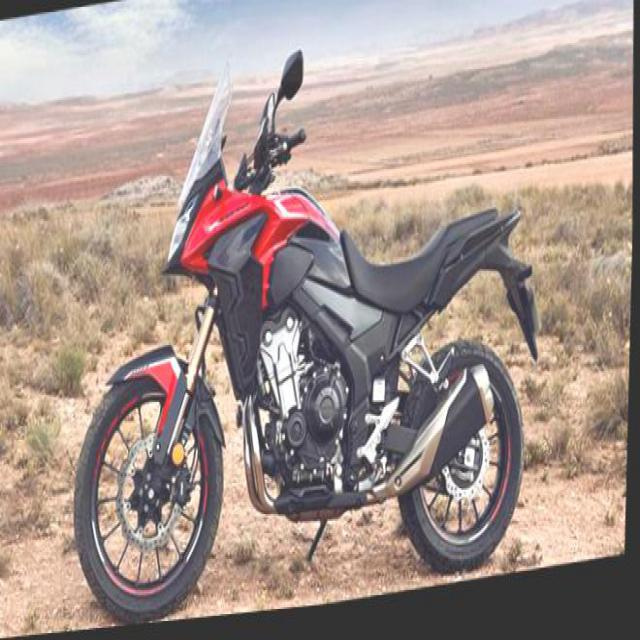CB500X: (61, 27, 538, 632)
